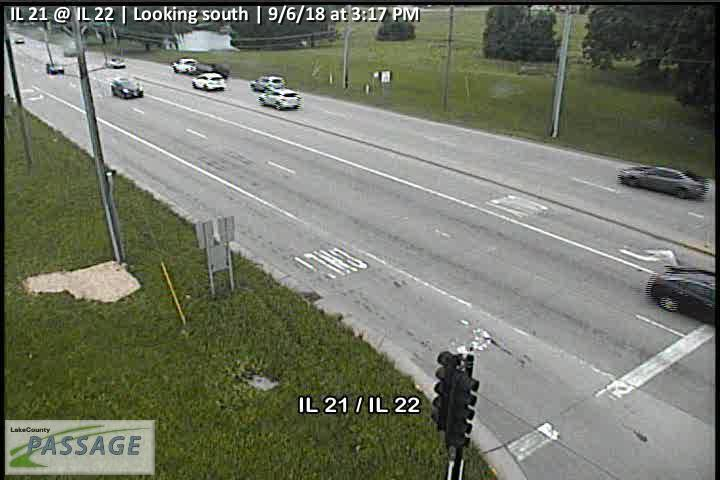SUV: (258, 89, 302, 110), (111, 76, 145, 99), (192, 72, 226, 91), (250, 74, 284, 91), (173, 58, 198, 73)
Sedan: (649, 264, 716, 322), (618, 164, 708, 198)
